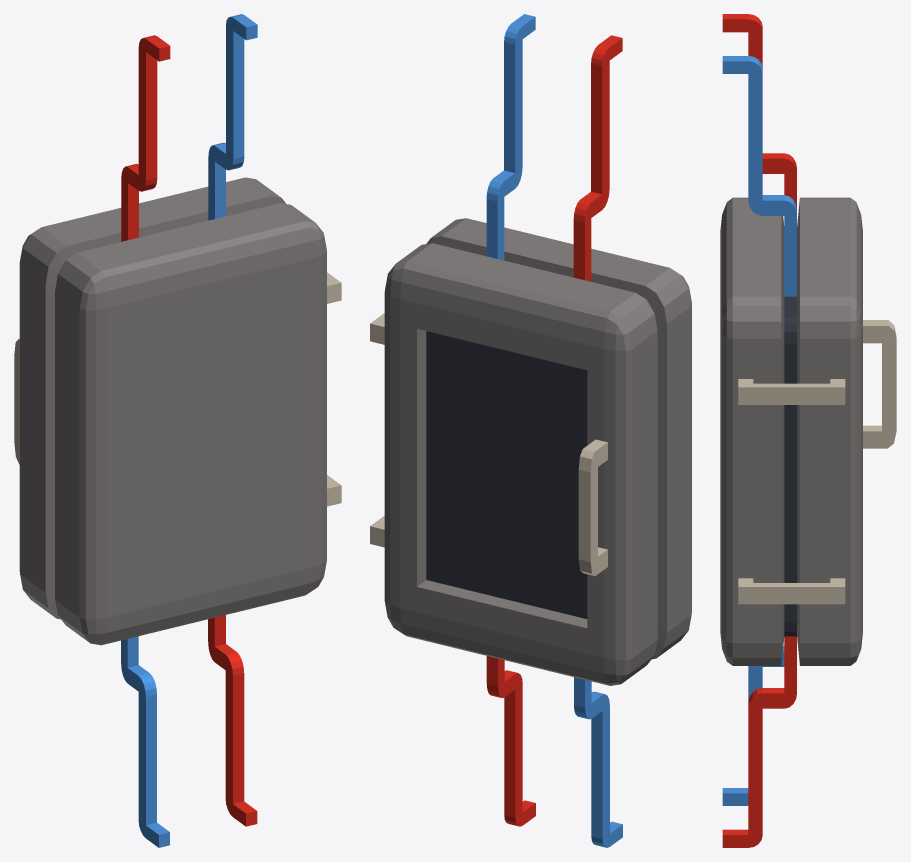
File: Electrical Box.fbx
3 views of the same model, side by side, from view 1: azimuth 30°, elevation 25°; view 2: azimuth 150°, elevation 25°; view 3: azimuth 270°, elevation 25° (orthographic).
Visible parts, largest first — view 1: Cube; view 2: Cube; view 3: Cube.
Part boxes in pixels (x1,y1,x2,y2): Cube: (14,14,341,847); Cube: (370,14,691,847); Cube: (720,14,896,847).
Bounding box in the file's own units: 2.14 × 6.19 × 1.26.
